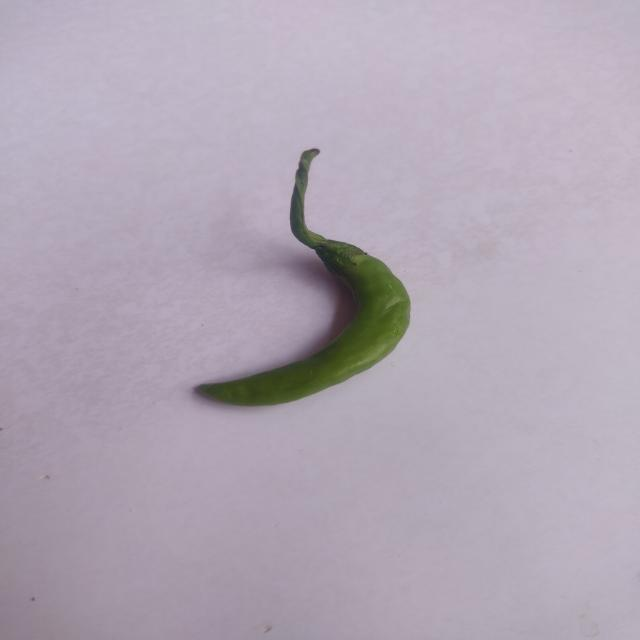Green Chilly: (174, 128, 471, 437)
